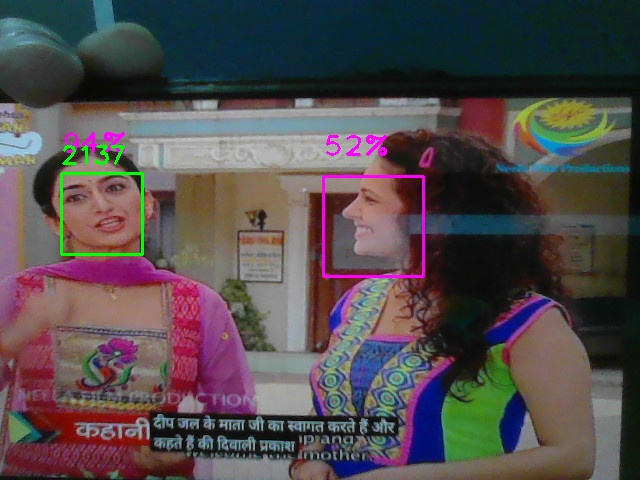fake: (61, 173, 143, 255)
